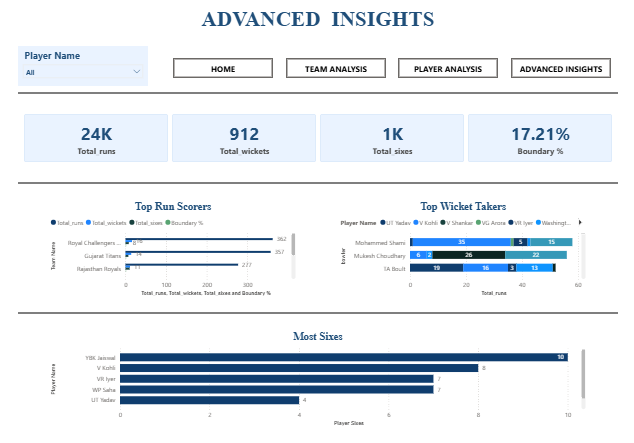

The dashboard page shown, as its layout file describes it:
{"tool":"powerbi","page":{"name":"Advanced Insights","canvas":[1280,1500],"ordinal":3},"visuals":[{"type":"textbox","box":[0,18.5,1280,57.1],"z":0},{"type":"cardVisual","fields":{"Data":["Measure_Table.Total_runs","Measure_Table.Total_wickets","Measure_Table.Total_sixes","Measure_Table.Boundary %"]},"box":[49.2,240.7,1190.7,100.3],"z":1000},{"type":"clusteredBarChart","title":"Top Run Scorers","fields":{"Y":["Measure_Table.Total_runs","Measure_Table.Total_wickets","Measure_Table.Total_sixes","Measure_Table.Boundary %"],"Category":["Dim_Team.Team Name"]},"box":[98.1,442,500,200],"z":2000},{"type":"clusteredBarChart","title":"Most Sixes","fields":{"Category":["Dim_Player.Player Name"],"Y":["Measure_Table.Player Sixes"]},"box":[62.5,691.6,1175.5,200.3],"z":3000},{"type":"barChart","title":"Top Wicket Takers","fields":{"Y":["Measure_Table.Total_runs"],"Category":["IPL_Data.bowler"],"Series":["Dim_Player.Player Name"]},"box":[698.1,442,500,200],"z":4000},{"type":"shape","box":[49.6,163.4,1190,78.3],"z":5000},{"type":"shape","box":[49.6,300,1190,150],"z":6000},{"type":"shape","box":[48.1,596.3,1190,150],"z":7000},{"type":"slicer","fields":{"Values":["Dim_Player.Player Name"]},"box":[45.4,96.4,255.1,82.2],"z":8000},{"type":"actionButton","box":[300,120,200,40.1],"z":9000},{"type":"actionButton","box":[960,120,200,40.1],"z":10000},{"type":"actionButton","box":[740,120,200,40.1],"z":11000},{"type":"actionButton","box":[520,120,200,40.1],"z":12000}]}

Visuals, with their boxes on the page's 1280x1500 design canvas (x1, y1, x2, y2). These are canvas units, not pixel positions in the 634x443 screenshot, which may show the page scaled, cropped or inside an application window:
textbox: bbox=(0, 18, 1280, 76)
cardVisual - Measure_Table.Total_runs x Measure_Table.Total_wickets: bbox=(49, 241, 1240, 341)
"Top Run Scorers" clusteredBarChart: bbox=(98, 442, 598, 642)
"Most Sixes" clusteredBarChart: bbox=(62, 692, 1238, 892)
"Top Wicket Takers" barChart: bbox=(698, 442, 1198, 642)
shape: bbox=(50, 163, 1240, 242)
shape: bbox=(50, 300, 1240, 450)
shape: bbox=(48, 596, 1238, 746)
slicer - Dim_Player.Player Name: bbox=(45, 96, 300, 179)
actionButton: bbox=(300, 120, 500, 160)
actionButton: bbox=(960, 120, 1160, 160)
actionButton: bbox=(740, 120, 940, 160)
actionButton: bbox=(520, 120, 720, 160)
